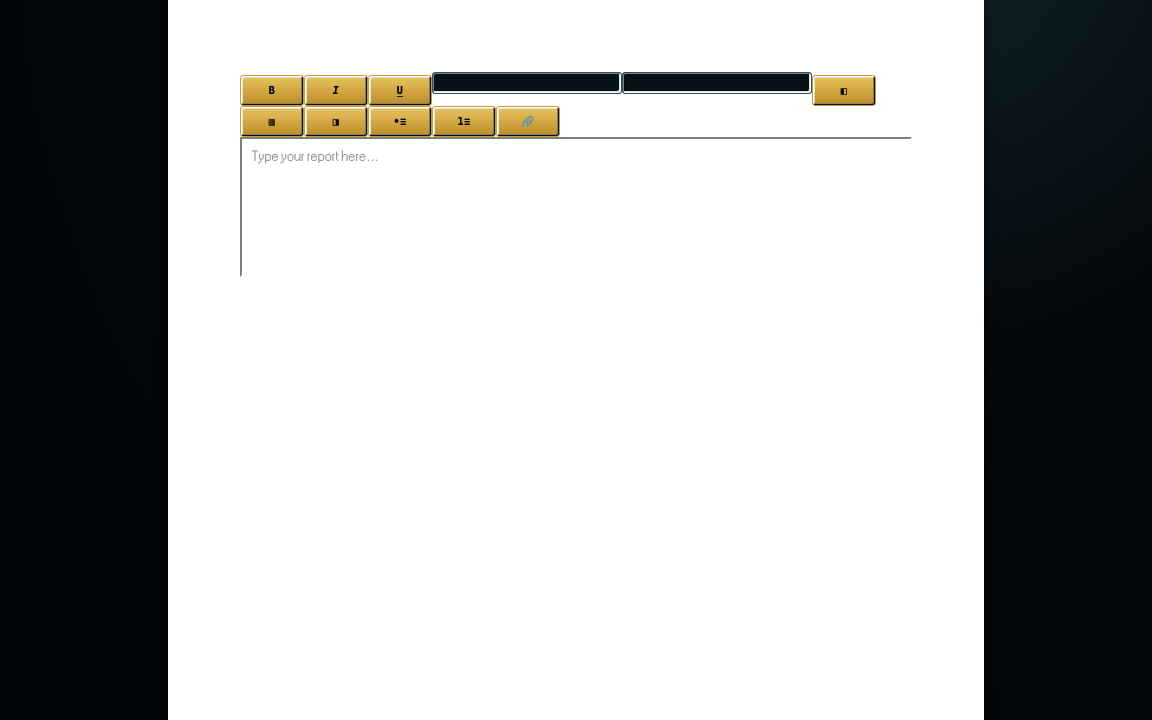
Scenario: TextBlock descriptor menu — no double menu, portaled out of the scaled page › portals the menu to document.body, not inside .ga98-report-page
Right-click the field with class "ga98-report-textblock-body": (576, 207) [240, 137, 912, 277]
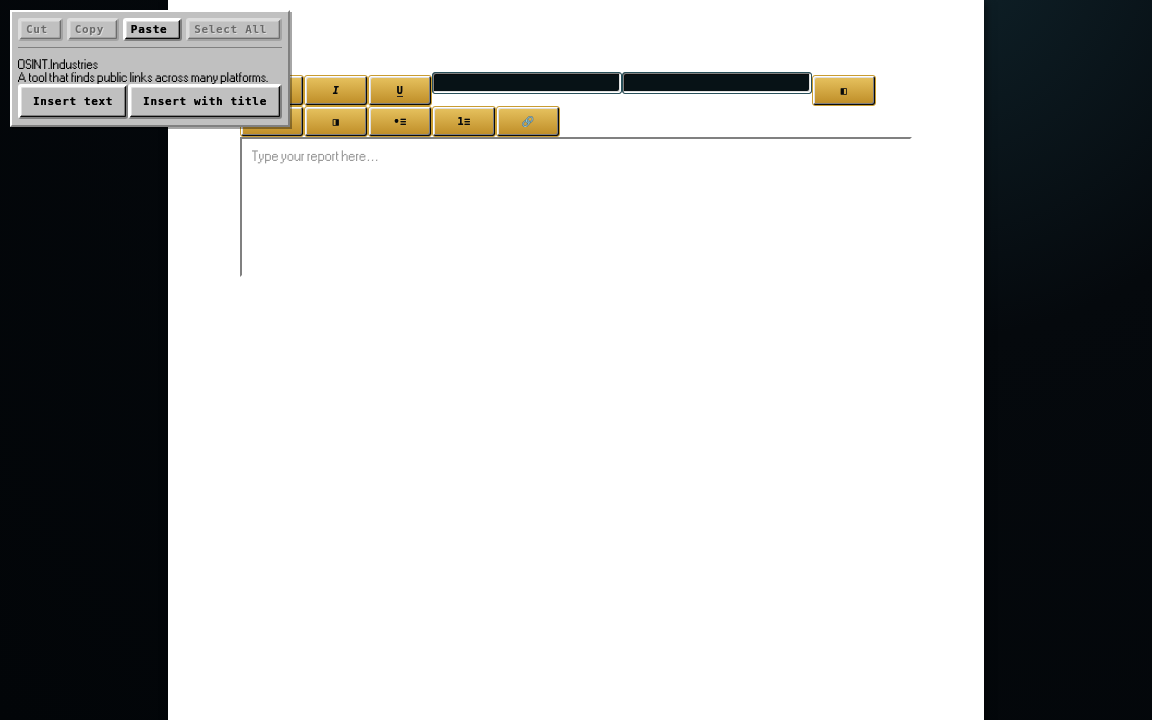
Now the menu with class "ga98-report-descmenu" is shown, box [10, 10, 290, 127]
